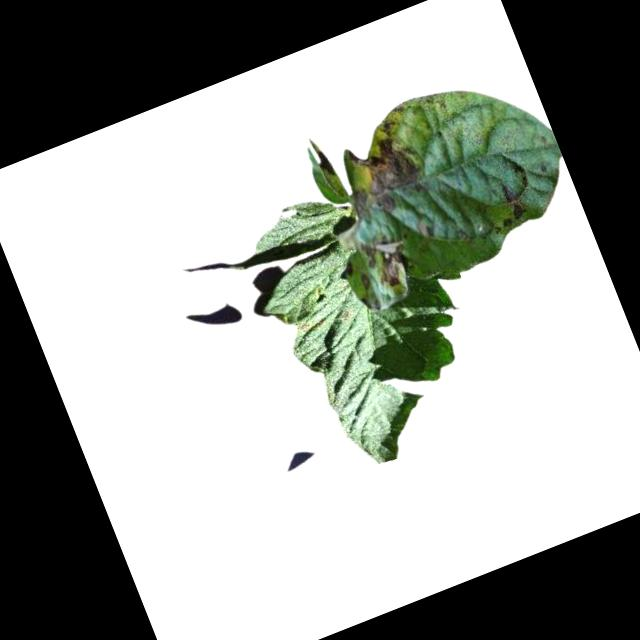Early_blight: (331, 118, 431, 225), (359, 225, 422, 294), (497, 177, 531, 222), (298, 315, 329, 339), (335, 259, 359, 282), (354, 270, 376, 294)
